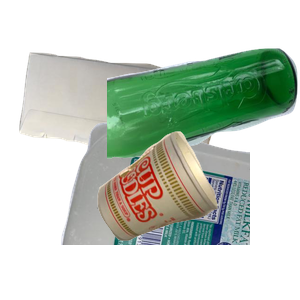glass: (107, 46, 300, 197)
paper: (17, 50, 231, 230)
plastic: (58, 120, 298, 300)
trash: (95, 129, 300, 300)
